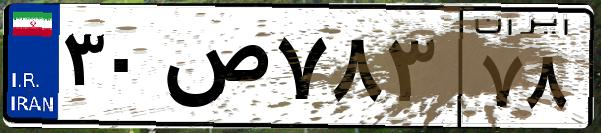0: (110, 28, 158, 98)
3: (385, 28, 445, 110), (57, 26, 110, 100)
7: (270, 28, 330, 110), (475, 38, 525, 113)
8: (330, 28, 385, 110), (525, 38, 570, 115)
ص: (158, 20, 270, 120)
